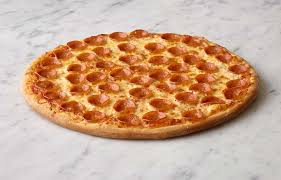pizza: (21, 22, 259, 151)
